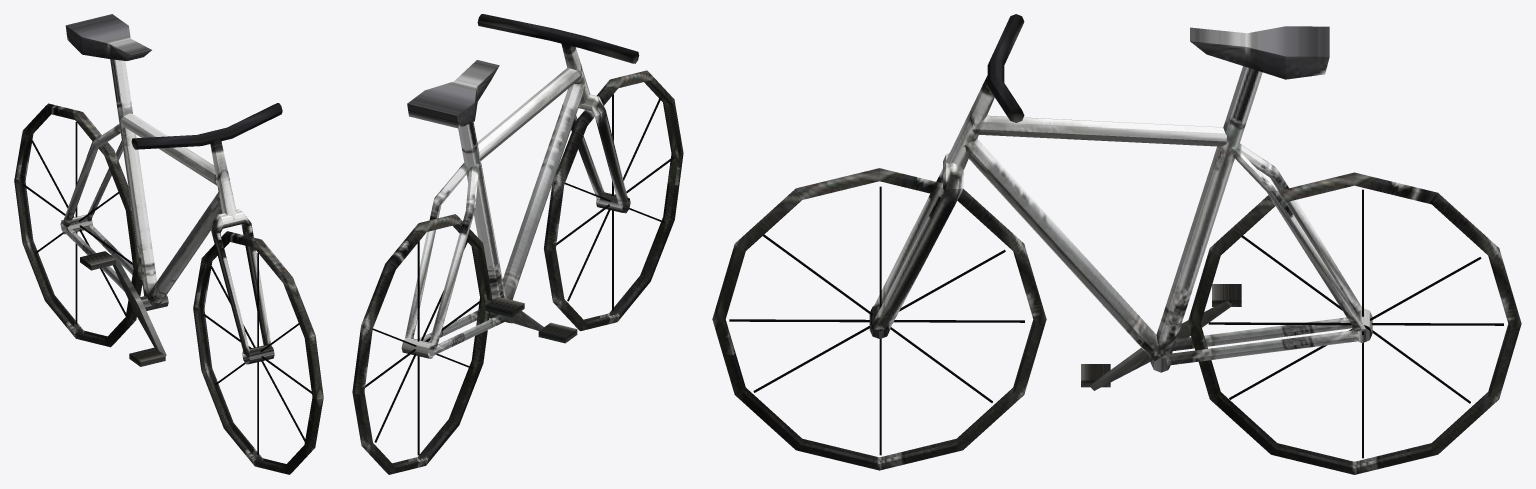
The model's file is bike_silver.obj.
The picture shows the model from 3 angles, left to right: view 1: azimuth 30°, elevation 25°; view 2: azimuth 150°, elevation 25°; view 3: azimuth 270°, elevation 25°; orthographic projection. The views are drawn at different scales.
Size of the model in its own units: 2.6 by 5.68 by 9.44.
Materials: 2 (2 with a texture image).
